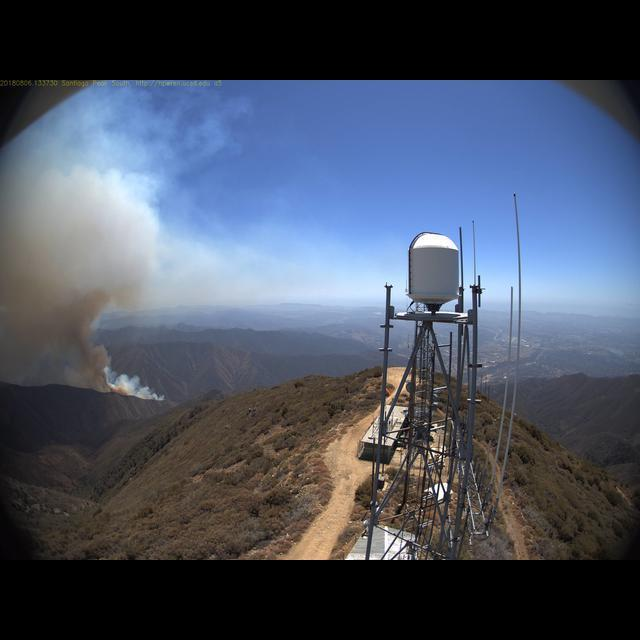Smoke: (2, 150, 167, 403)
